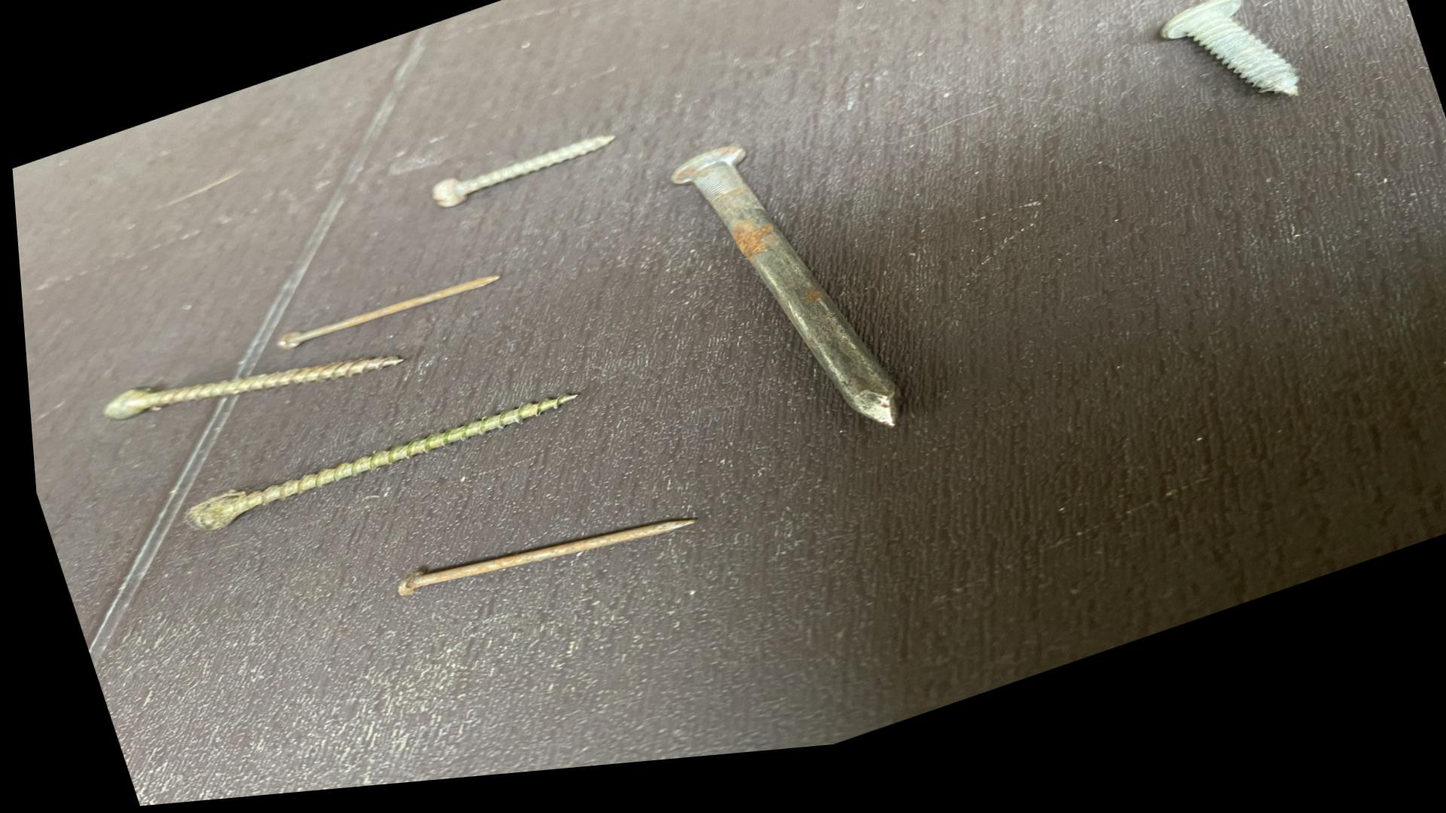nail: (610, 94, 956, 512), (340, 481, 709, 657), (226, 259, 530, 376)
screw: (91, 369, 605, 581), (55, 289, 412, 491), (349, 104, 665, 248), (1124, 0, 1336, 178)
